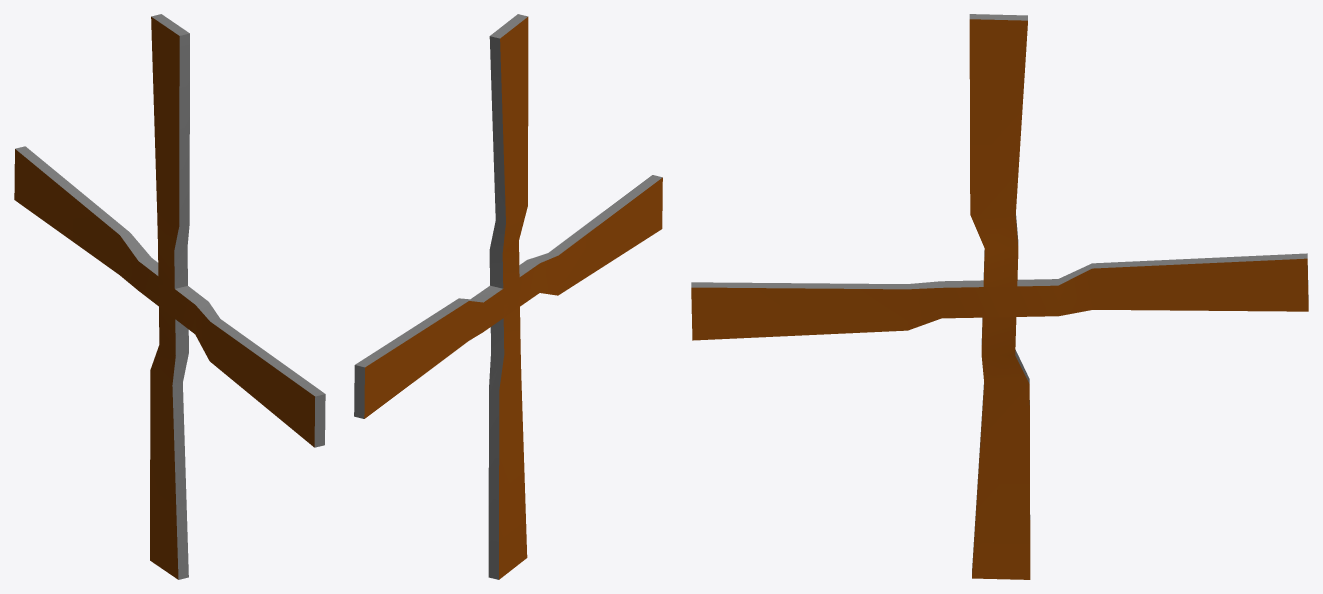
Rendered from backPropellers.fbx.
3 renders of one model, left to right at view 1: azimuth 30°, elevation 25°; view 2: azimuth 150°, elevation 25°; view 3: azimuth 270°, elevation 25°, orthographic. The views are drawn at different scales.
Parts seen in each view (by area): view 1: polySurface160; view 2: polySurface160; view 3: polySurface160.
Part boxes in pixels (x1,y1,x2,y2): polySurface160: (14,14,325,579); polySurface160: (354,14,662,579); polySurface160: (691,14,1308,579).
Bounding box in the file's own units: 0.1034 × 3.53 × 3.52.
